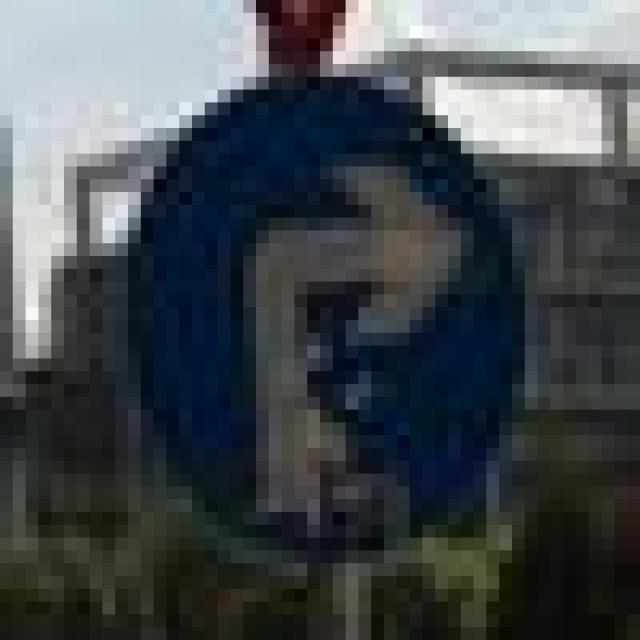railway_crossing: (115, 64, 512, 550)
